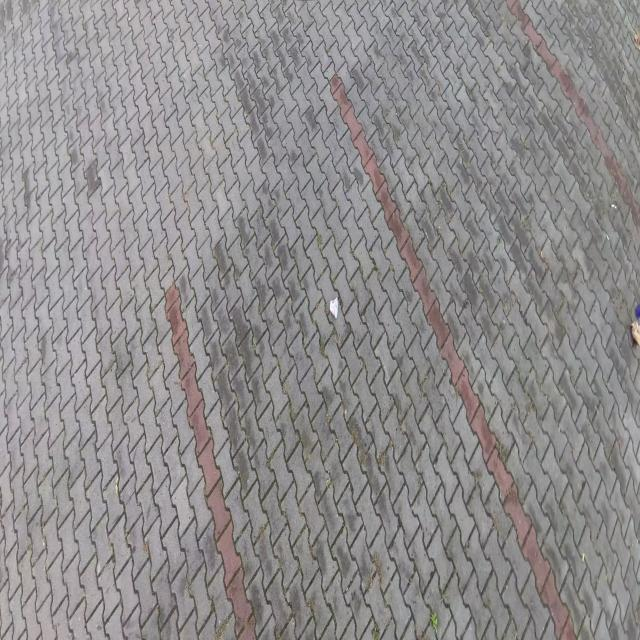rubbish: (630, 320, 639, 344), (329, 296, 338, 319), (634, 303, 639, 317)
